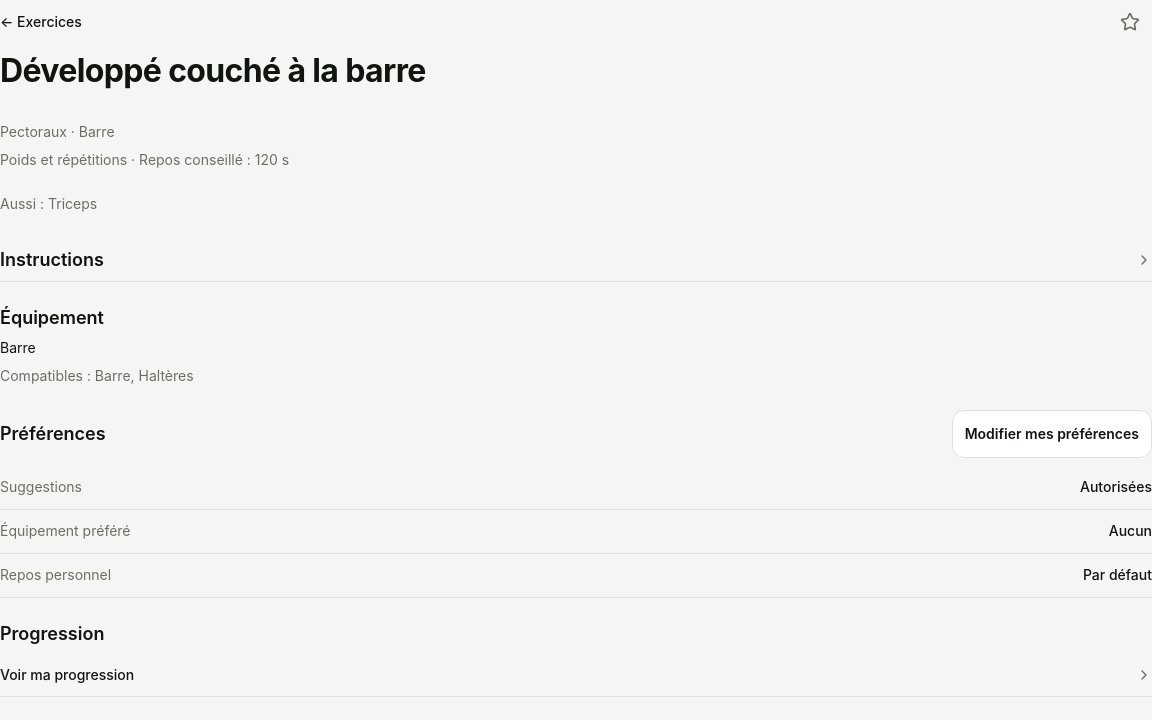
ExerciseDetailPage preferences › keeps detail visible when preference save fails
Check: the heading "Développé couché à la barre" is shown, box [0,51,426,90]
Click the button "Modifier mes préférences": [1052, 434] box [952,410,1151,458]
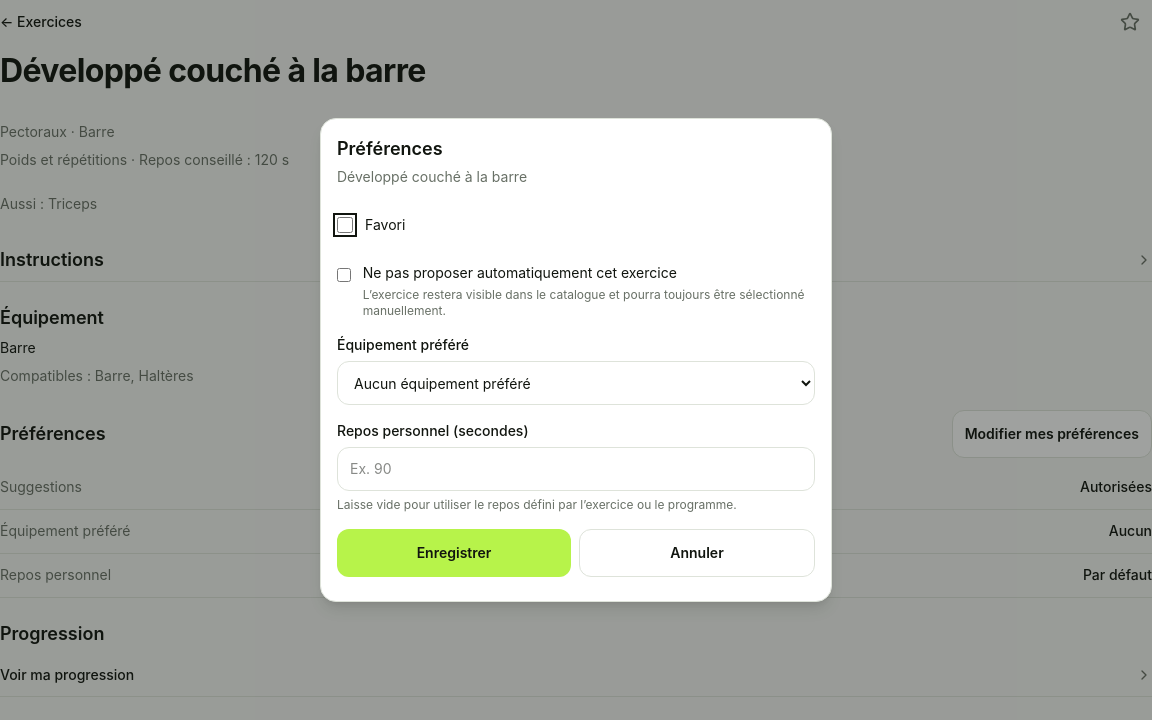
Click the button "Enregistrer": [454, 553] box [337,529,571,577]
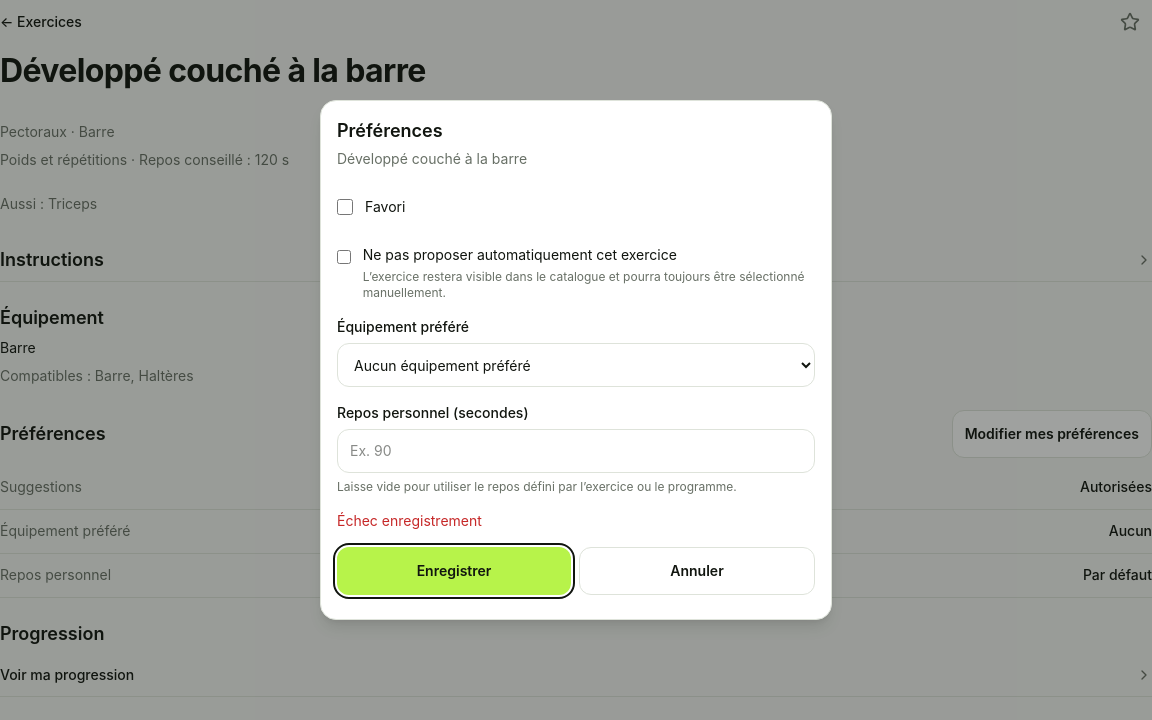
Check: the heading "Développé couché à la barre" is shown, box [0,51,426,90]
Check: the message reads "Échec enregistrement", box [337,512,482,529]
